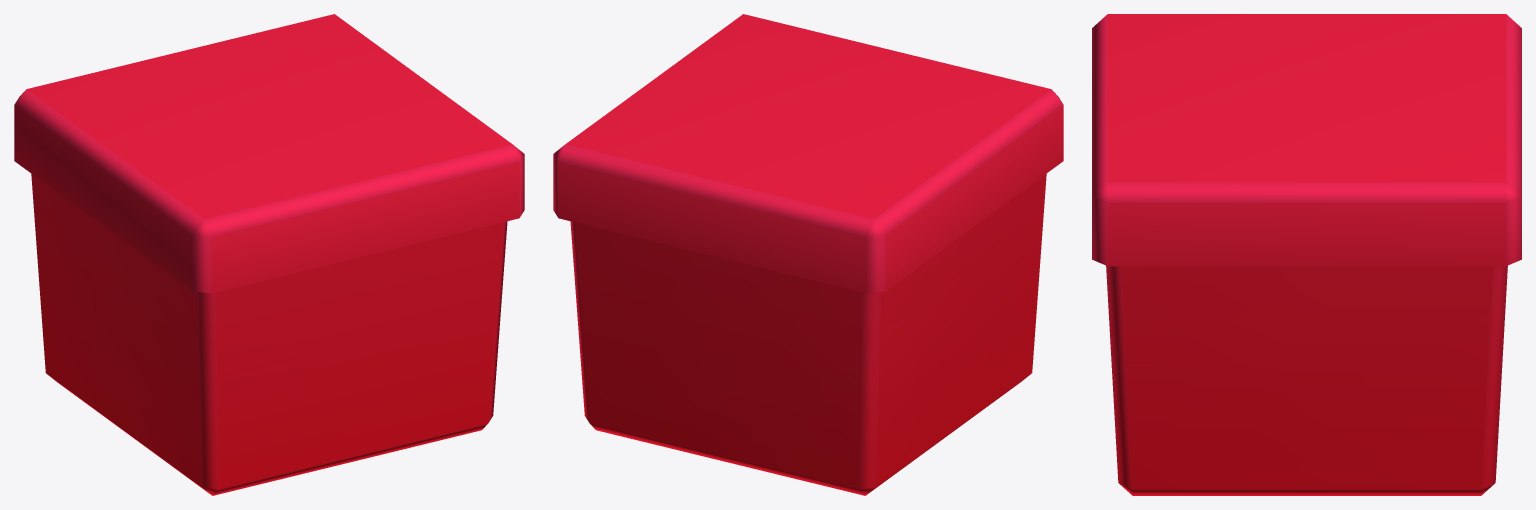
Rendered from giftbox_033.fbx.
3 renders of one model, left to right at view 1: azimuth 30°, elevation 25°; view 2: azimuth 150°, elevation 25°; view 3: azimuth 270°, elevation 25°, orthographic. The views are drawn at different scales.
Parts seen in each view (by area): view 1: giftbox_033; view 2: giftbox_033; view 3: giftbox_033.
Part boxes in pixels (left/top/right/bottom): giftbox_033: left=14, top=14, right=524, bottom=495; giftbox_033: left=553, top=14, right=1063, bottom=495; giftbox_033: left=1092, top=14, right=1521, bottom=495.
Bounding box in the file's own units: 192 × 192 × 160.
